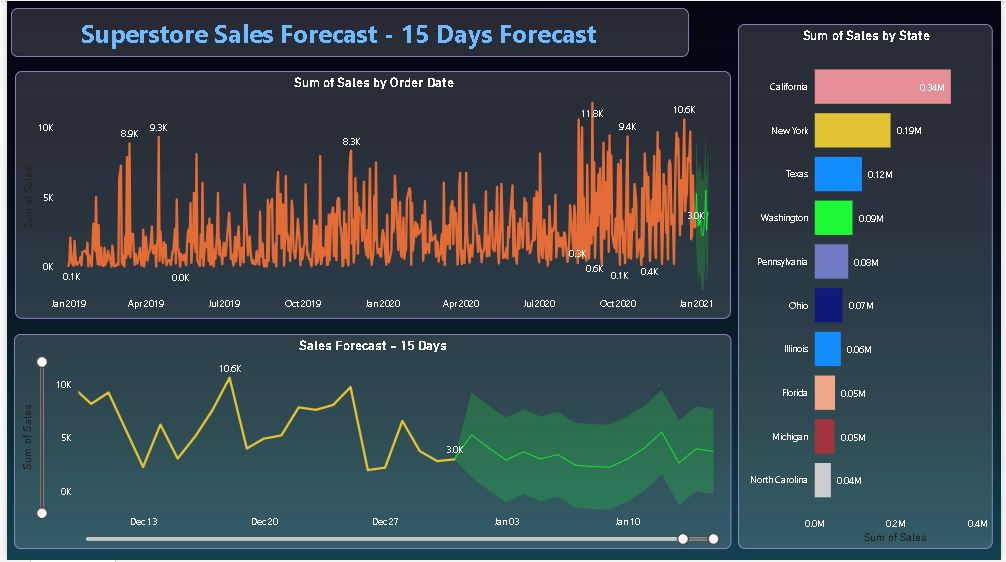

Layout of this report page (visuals, bound fields, positions):
{"tool":"powerbi","page":{"name":"Forecast","canvas":[1280,720],"ordinal":1},"visuals":[{"type":"lineChart","fields":{"Y":["Sum(SuperStore_Sales_Dataset.Sales)"],"Category":["SuperStore_Sales_Dataset.Order Date"]},"box":[10.3,90.2,922.2,319.4],"z":0},{"type":"lineChart","title":"Sales Forecast - 15 Days","fields":{"Y":["Sum(SuperStore_Sales_Dataset.Sales)"],"Category":["SuperStore_Sales_Dataset.Order Date"]},"box":[9,428.9,923.5,276.9],"z":1000},{"type":"barChart","fields":{"Y":["Sum(SuperStore_Sales_Dataset.Sales)"],"Category":["SuperStore_Sales_Dataset.State"]},"box":[941.5,29.6,328.4,676.2],"z":2000},{"type":"textbox","box":[5.2,9,873.3,63.1],"z":2001}]}

Visuals, with their boxes in screenshot pixels (x1, y1, x2, y2), scaled from the page's 1280x720 canvas onto the 1006x562 screenshot:
lineChart - Sum(SuperStore_Sales_Dataset.Sales) x SuperStore_Sales_Dataset.Order Date: detection(8, 70, 733, 320)
"Sales Forecast - 15 Days" lineChart: detection(7, 335, 733, 551)
barChart - Sum(SuperStore_Sales_Dataset.Sales) x SuperStore_Sales_Dataset.State: detection(740, 23, 998, 551)
textbox: detection(4, 7, 690, 56)
